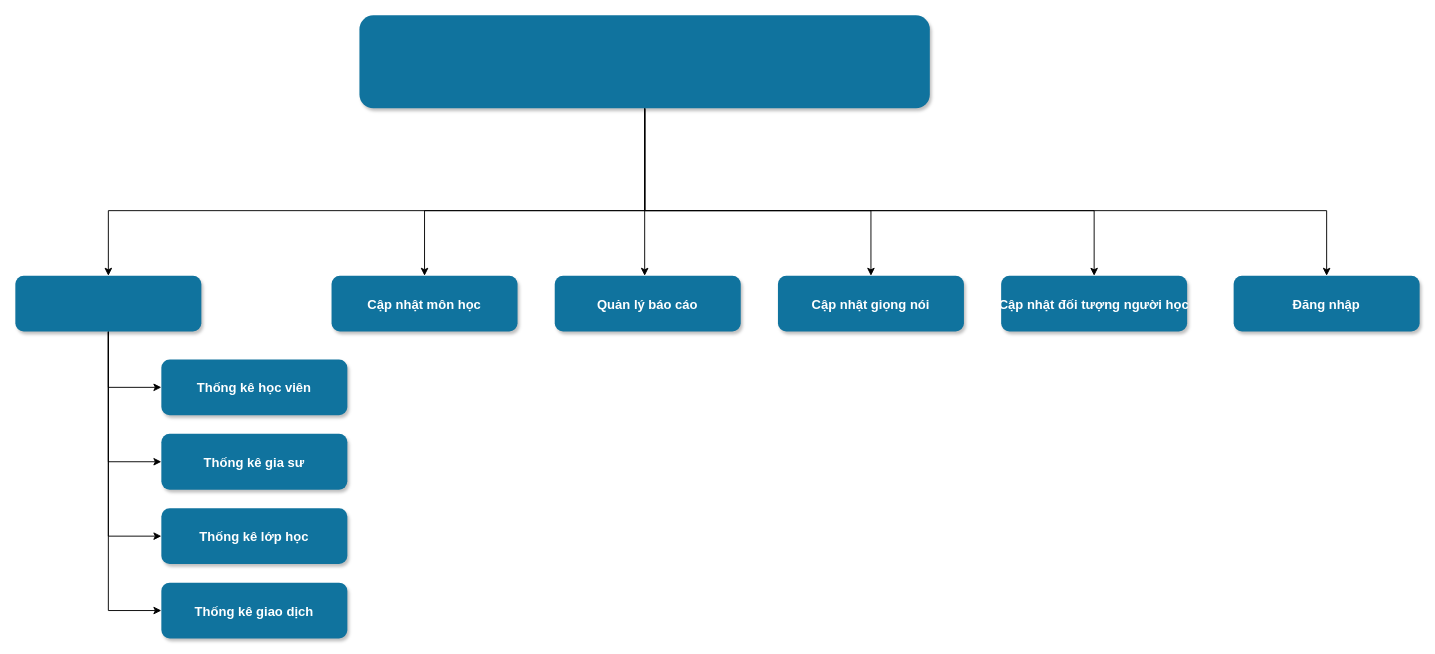
Image size: 1435x654. Some labels were removed from this diagram. The centre of each missing label's shape, as x and y in pixels:
"HỆ THỐNG CỘNG ĐỒNG GIA SƯ" belongs at pixel 645 62.
"Thống kê" belongs at pixel 108 305.
